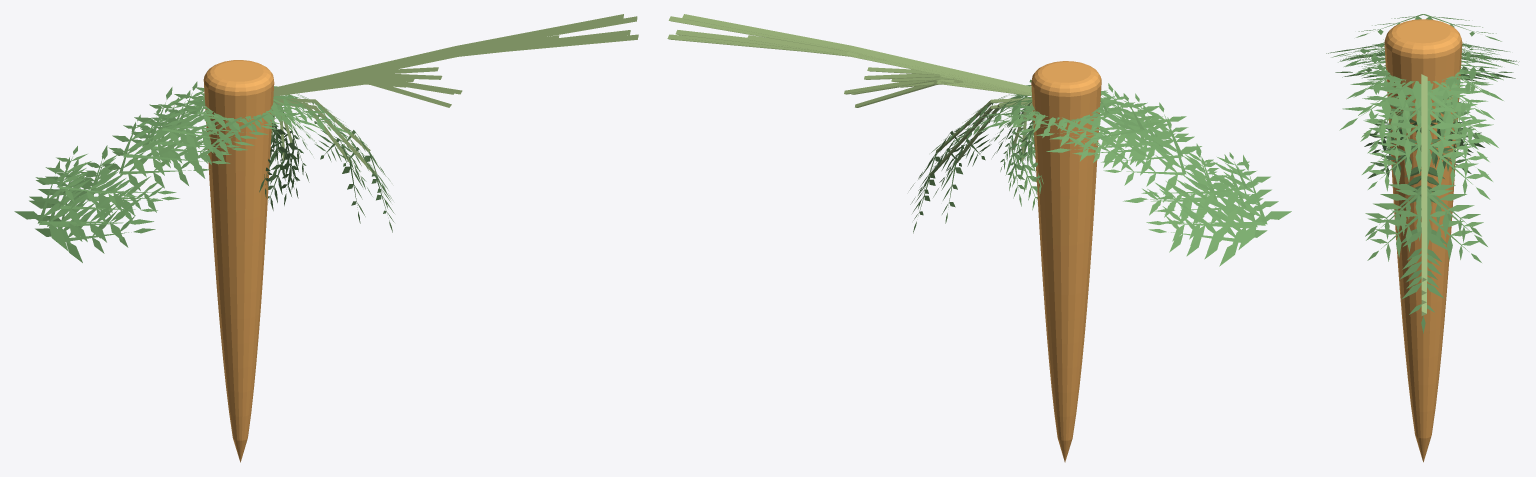
File: carrot_harvest_v04.articulated.glb
The picture shows the model from 3 angles, left to right: view 1: azimuth 30°, elevation 25°; view 2: azimuth 150°, elevation 25°; view 3: azimuth 270°, elevation 25°; orthographic projection. The views are drawn at different scales.
Visible parts, largest first — view 1: root, leaf06_link2, leaf02_link2, leaf05_link2, leaf00_link2, leaf03_link2, leaf02_link0, leaf07_link2, leaf00_link0, leaf01_link2, leaf04_link2, leaf06_link1 (+2 smaller); view 2: root, leaf06_link2, leaf02_link2, leaf05_link2, leaf00_link2, leaf03_link2, leaf07_link2, leaf03_link0, leaf01_link2, leaf04_link2, leaf05_link0, leaf07_link0 (+2 smaller); view 3: root, leaf02_link2, leaf06_link2, leaf05_link2, leaf00_link2, leaf03_link2, leaf03_link0, leaf07_link2, leaf01_link2, leaf04_link2.
Boxes of the visible parts, left/top/right/bottom form: root: left=203, top=60, right=274, bottom=462; leaf06_link2: left=14, top=86, right=390, bottom=251; leaf02_link2: left=35, top=81, right=394, bottom=262; leaf05_link2: left=29, top=87, right=372, bottom=245; leaf00_link2: left=41, top=93, right=320, bottom=226; leaf03_link2: left=35, top=97, right=322, bottom=205; leaf02_link0: left=273, top=34, right=638, bottom=94; leaf07_link2: left=79, top=90, right=310, bottom=212; leaf00_link0: left=274, top=16, right=637, bottom=88; leaf01_link2: left=80, top=95, right=304, bottom=215; leaf04_link2: left=68, top=95, right=316, bottom=210; leaf06_link1: left=273, top=76, right=462, bottom=95; root: left=1031, top=61, right=1101, bottom=462; leaf06_link2: left=909, top=79, right=1291, bottom=249; leaf02_link2: left=910, top=83, right=1267, bottom=266; leaf05_link2: left=933, top=93, right=1269, bottom=251; leaf00_link2: left=976, top=94, right=1263, bottom=227; leaf03_link2: left=978, top=93, right=1260, bottom=210; leaf07_link2: left=990, top=90, right=1233, bottom=206; leaf03_link0: left=682, top=14, right=1031, bottom=92; leaf01_link2: left=999, top=90, right=1228, bottom=216; leaf04_link2: left=1004, top=101, right=1224, bottom=223; leaf05_link0: left=675, top=30, right=1031, bottom=93; leaf07_link0: left=746, top=35, right=1029, bottom=92; root: left=1384, top=19, right=1462, bottom=462; leaf02_link2: left=1335, top=51, right=1515, bottom=333; leaf06_link2: left=1326, top=42, right=1509, bottom=288; leaf05_link2: left=1338, top=48, right=1519, bottom=287; leaf00_link2: left=1340, top=43, right=1499, bottom=195; leaf03_link2: left=1344, top=14, right=1501, bottom=150; leaf03_link0: left=1421, top=74, right=1427, bottom=281; leaf07_link2: left=1350, top=51, right=1494, bottom=203; leaf01_link2: left=1355, top=54, right=1488, bottom=155; leaf04_link2: left=1358, top=55, right=1502, bottom=155.
Bounding box in the file's own units: 0.2591 × 0.1618 × 0.0684.
1 material, 1 textured.
